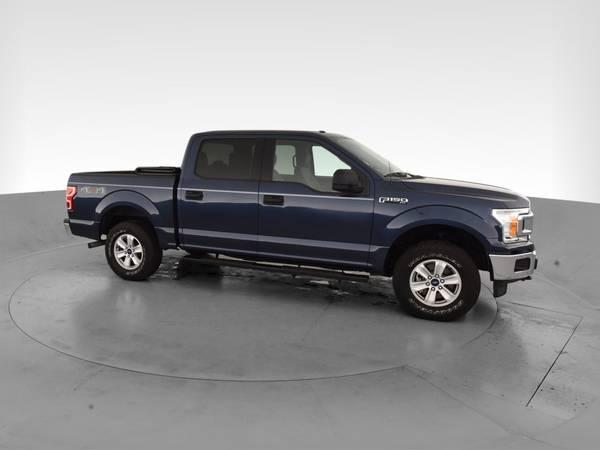Front_Bumper: (487, 249, 537, 283)
Front_Fender: (366, 182, 504, 279)
Front_Right_Door: (253, 183, 375, 271)
Front_Right_Window: (259, 130, 378, 190)
Front_Windshield: (332, 138, 414, 177)
Hood: (382, 177, 531, 208)
Rear_Bumper: (59, 220, 98, 243)
Rear_Fender: (66, 172, 179, 248)
Rear_Right_Door: (178, 176, 259, 259)
Rear_Right_Window: (179, 131, 269, 181)
Right_Headlight: (493, 207, 533, 253)
Right_Taillight: (66, 186, 76, 212)
Wheel: (394, 242, 480, 322), (102, 219, 159, 279)
